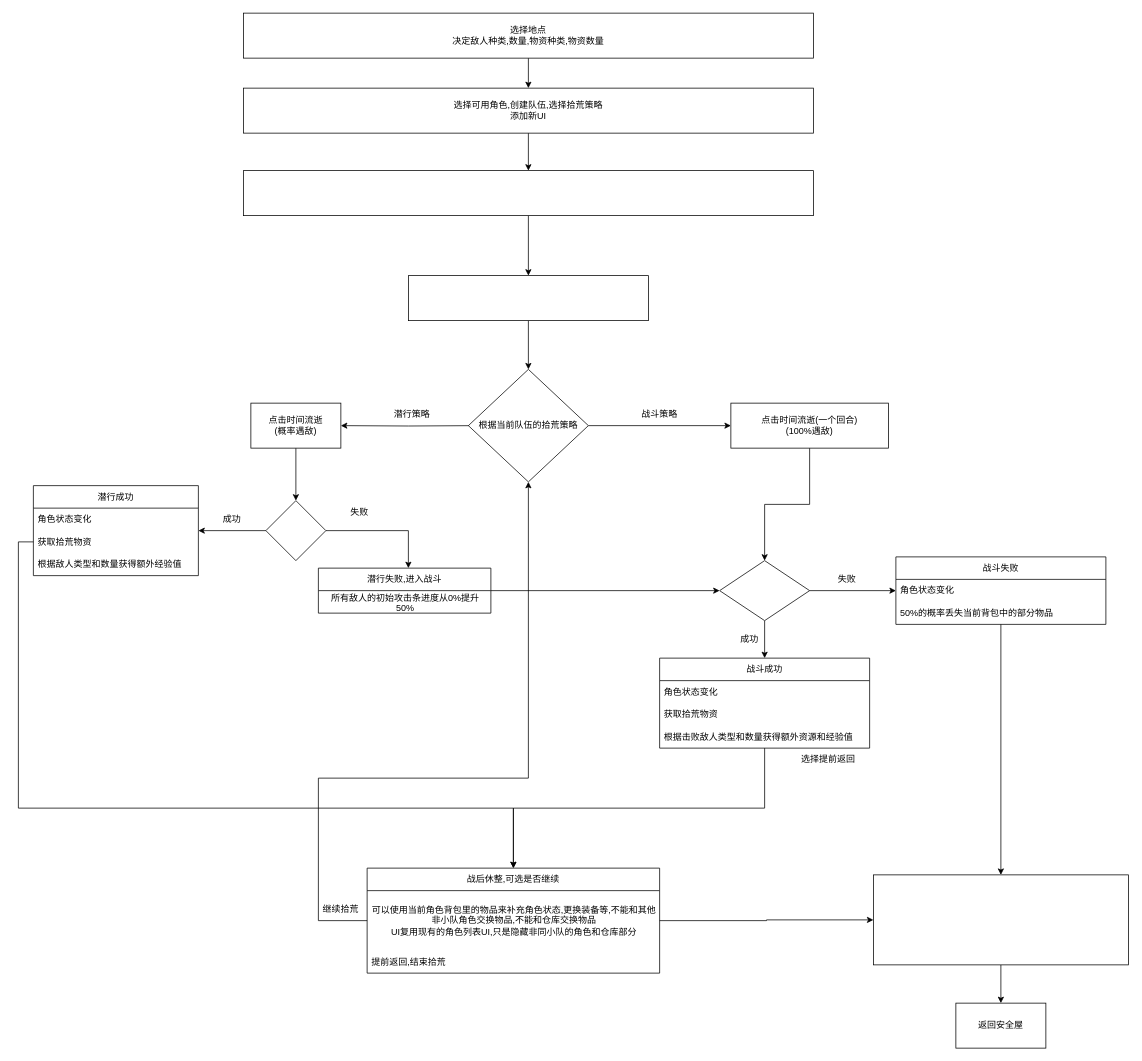
Some shapes in this 1142 by 1061 pixel diagram are drawn without their labels. The centre of each missing label's shape, as x and y in pixels:
"战斗判定" goes at point 764,590.
"潜行判定" goes at point 295,530.
"点击时间流逝(一个 回合 ) 此角色进入拾荒阶段" goes at point 528,298.
"点击时间流逝(需要一个 回合,不是像现在直接秒回安全屋) 结束拾荒" goes at point 1000,919.
"确认派遣 此小队角色进入准备阶段" goes at point 528,193.
